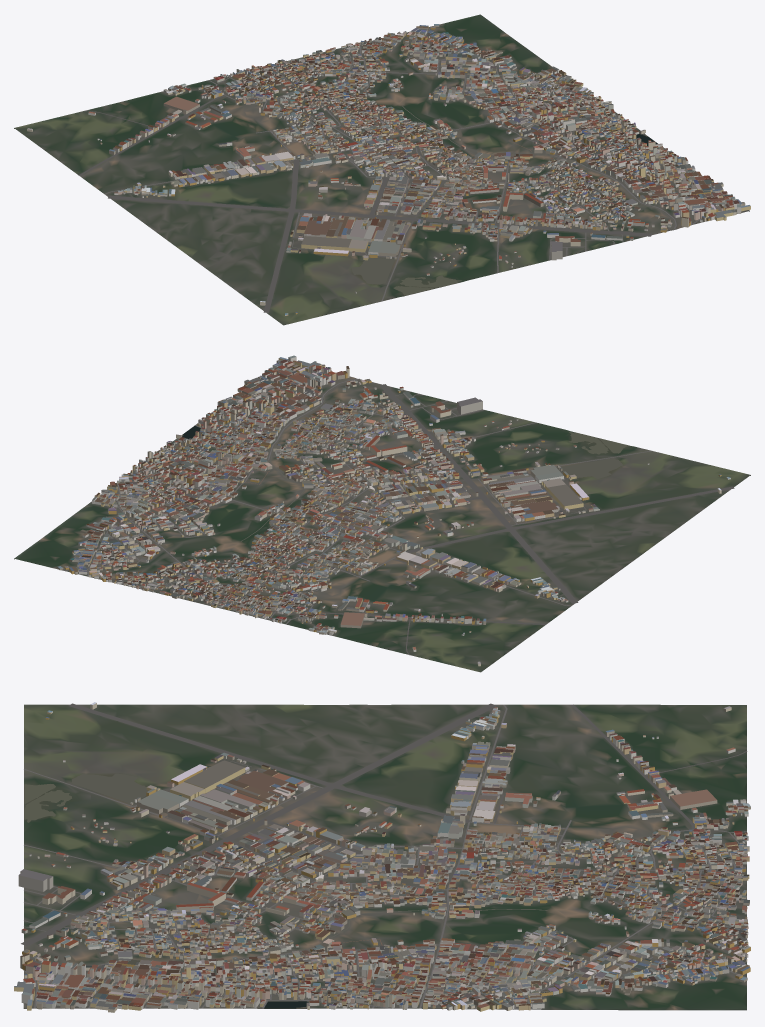
3 views of the same model, one above another, from view 1: azimuth 30°, elevation 25°; view 2: azimuth 150°, elevation 25°; view 3: azimuth 270°, elevation 25° (orthographic). The views are drawn at different scales.
Parts seen in each view (by area): view 1: ground, buildings, roads, water; view 2: ground, buildings, roads, water; view 3: ground, buildings, roads, water.
Part boxes in pixels (x1=…): ground: x1=14, y1=14, x2=749, y2=325; buildings: x1=27, y1=24, x2=750, y2=315; roads: x1=78, y1=26, x2=736, y2=312; water: x1=352, y1=105, x2=675, y2=295; ground: x1=14, y1=374, x2=750, y2=672; buildings: x1=57, y1=355, x2=730, y2=666; roads: x1=63, y1=378, x2=734, y2=655; water: x1=182, y1=379, x2=628, y2=541; ground: x1=23, y1=704, x2=746, y2=1010; buildings: x1=14, y1=702, x2=750, y2=1012; roads: x1=21, y1=703, x2=747, y2=1009; water: x1=24, y1=773, x2=547, y2=1008.
Bounding box in the file's own units: 1424 × 33.42 × 1429.
